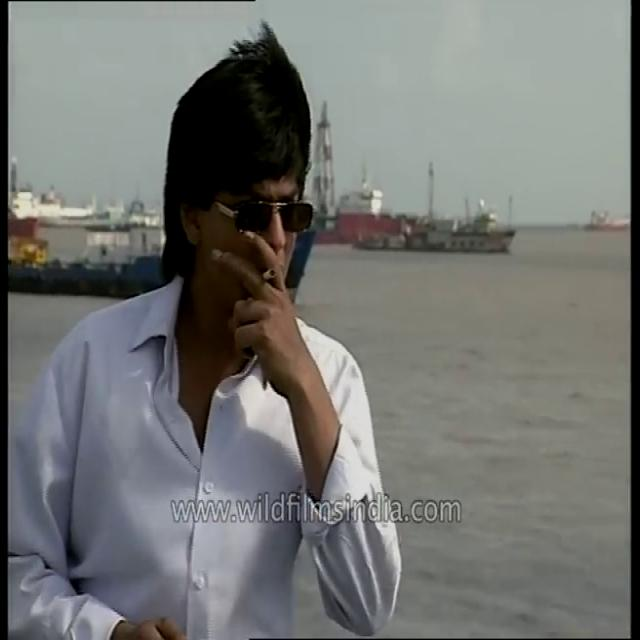Smooking: (262, 255, 280, 285)
